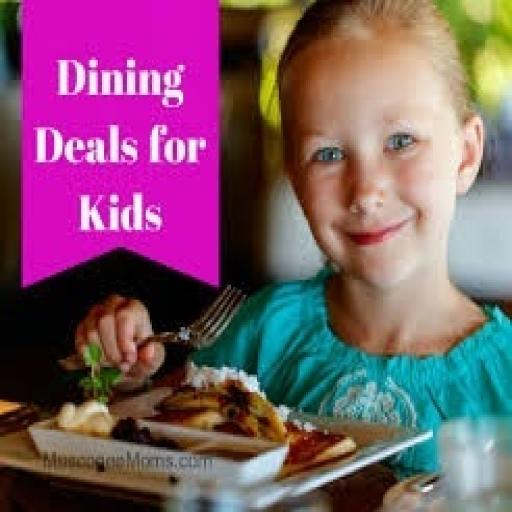eating: (71, 0, 510, 482)
